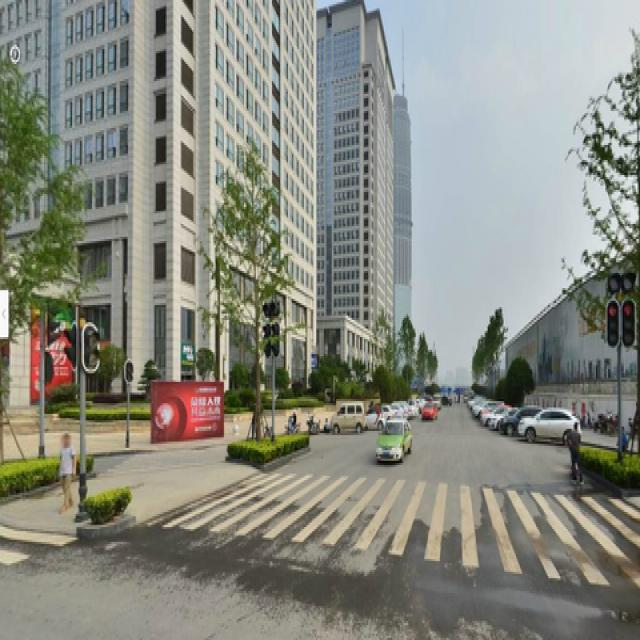gink: (221, 173, 284, 422)
